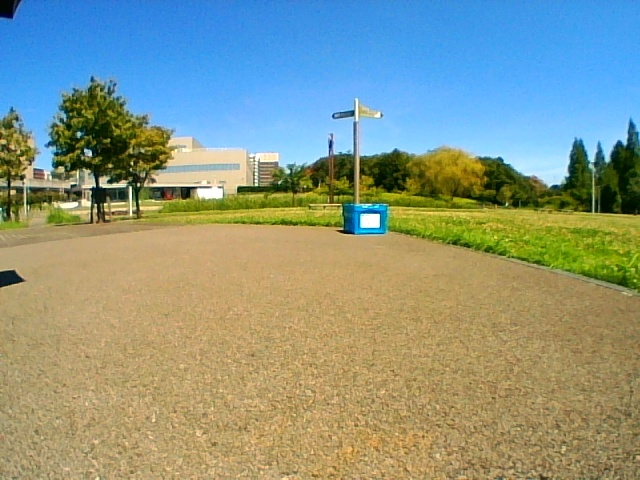blue_box: (345, 204, 387, 234)
tag: (361, 214, 379, 227)
